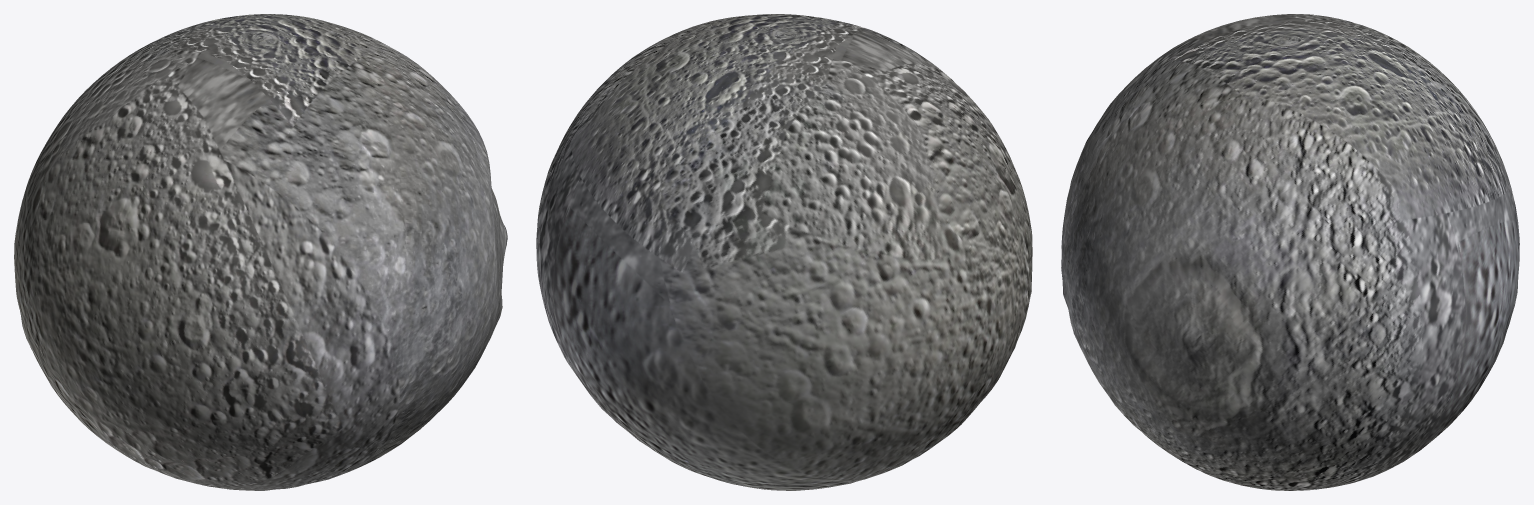
File: moonmimas.glb
The picture shows the model from 3 angles, left to right: view 1: azimuth 30°, elevation 25°; view 2: azimuth 150°, elevation 25°; view 3: azimuth 270°, elevation 25°; orthographic projection.
Parts seen in each view (by area): view 1: Mimas; view 2: Mimas; view 3: Mimas.
Boxes of the visible parts, x1=… form: Mimas: x1=14, y1=14, x2=507, y2=490; Mimas: x1=536, y1=14, x2=1032, y2=490; Mimas: x1=1061, y1=14, x2=1519, y2=490.
Size of the model in its own units: 416 by 393 by 381.
Materials: 1 (1 with a texture image).
